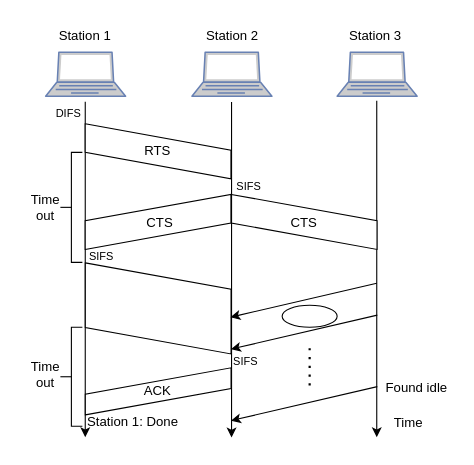
Image size: 474x465. Some labels were removed from this diagram. Each missing label, with the centre of its shape:
"DATA" belongs at point (157, 308).
"Listens" belongs at point (309, 315).
